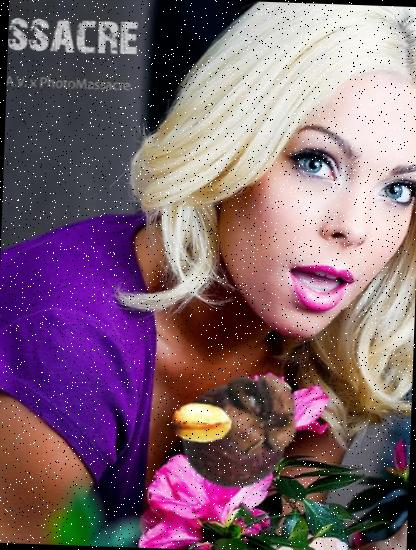Carambula: (171, 392, 233, 454)
Mangostan: (177, 365, 310, 498)
